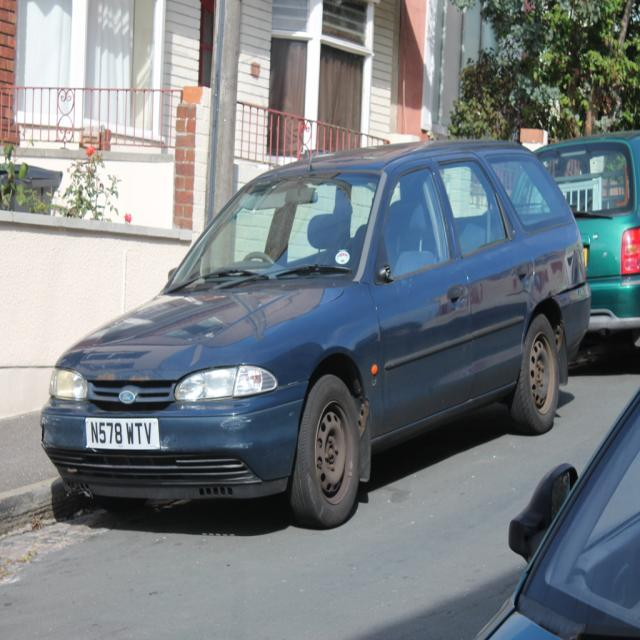car: (37, 135, 597, 545)
